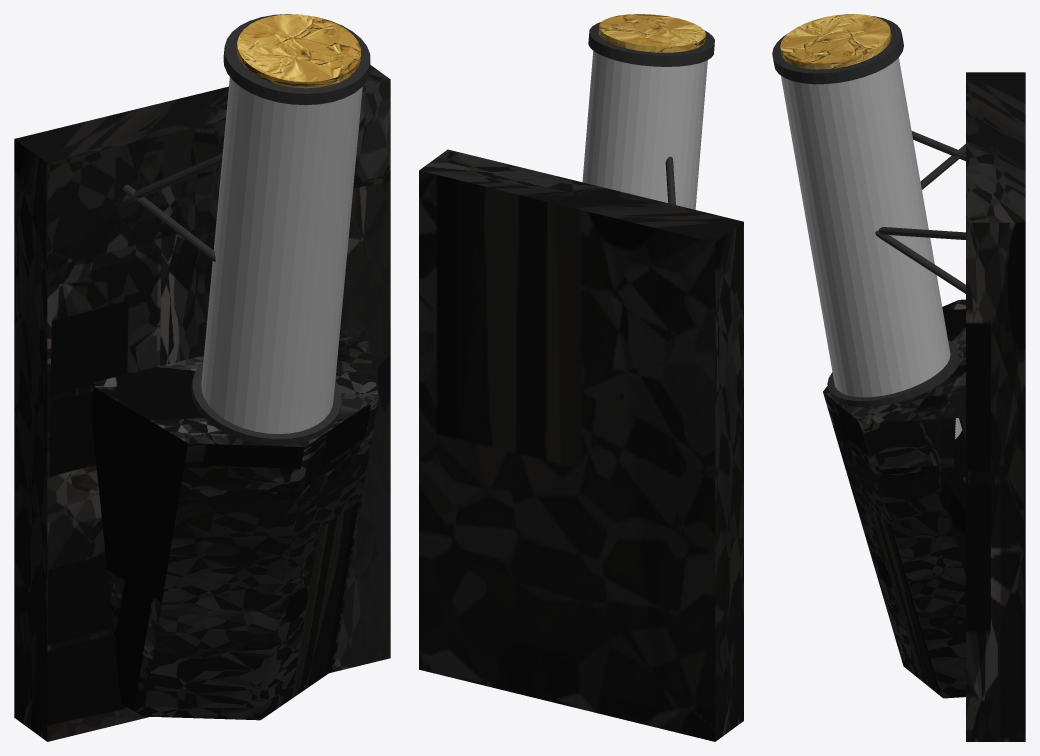
File: DSOC.fbx
3 views of the same model, side by side, from view 1: azimuth 30°, elevation 25°; view 2: azimuth 150°, elevation 25°; view 3: azimuth 270°, elevation 25° (orthographic). The views are drawn at different scales.
Visible parts, largest first — view 1: Plane, DSOC Housing, DSOC, Cylinder.003, Cylinder, DSOC Bolt, Holding Beam.004, DSOC Holding Beam.001; view 2: Plane, DSOC, Cylinder.003, Cylinder; view 3: Plane, DSOC, DSOC Housing, Cylinder.003, Cylinder, DSOC Bolt, Holding Beam.001, Holding Beam.003, Holding Beam.004.
Part boxes in pixels (<box>): Plane: <box>14,65,390,741</box>; DSOC Housing: <box>91,318,378,720</box>; DSOC: <box>201,77,362,433</box>; Cylinder.003: <box>236,14,360,88</box>; Cylinder: <box>223,14,370,105</box>; DSOC Bolt: <box>191,362,341,445</box>; Holding Beam.004: <box>122,153,222,204</box>; DSOC Holding Beam.001: <box>123,185,215,261</box>; Plane: <box>419,149,743,741</box>; DSOC: <box>582,51,707,209</box>; Cylinder.003: <box>598,14,705,52</box>; Cylinder: <box>588,22,714,66</box>; Plane: <box>966,72,1025,741</box>; DSOC: <box>781,57,962,439</box>; DSOC Housing: <box>823,299,965,698</box>; Cylinder.003: <box>780,14,891,69</box>; Cylinder: <box>772,16,903,84</box>; DSOC Bolt: <box>827,340,959,407</box>; Holding Beam.001: <box>875,230,965,293</box>; Holding Beam.003: <box>878,227,965,239</box>; Holding Beam.004: <box>911,131,965,161</box>.
Size of the model in its own units: 89.16 by 177 by 63.57.
